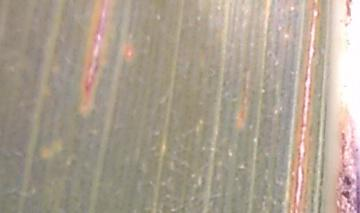tarspot: (343, 174, 353, 189), (342, 189, 353, 200)
